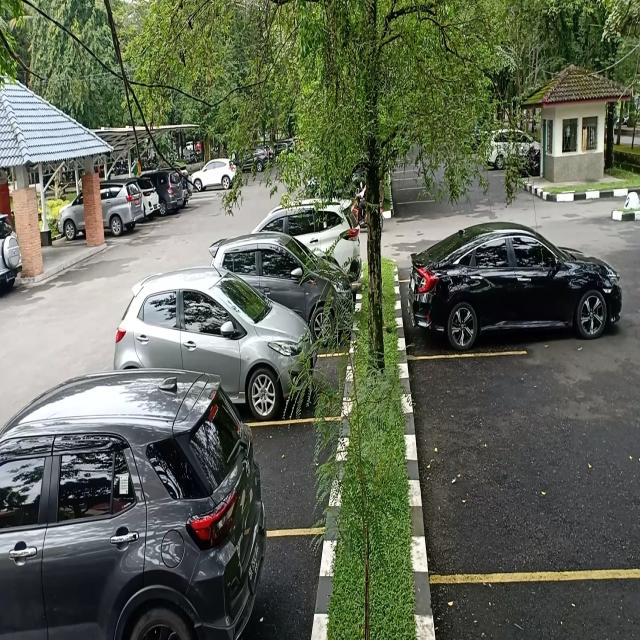empty: (415, 350, 640, 582)
occupied: (407, 259, 622, 360), (230, 308, 356, 420)
